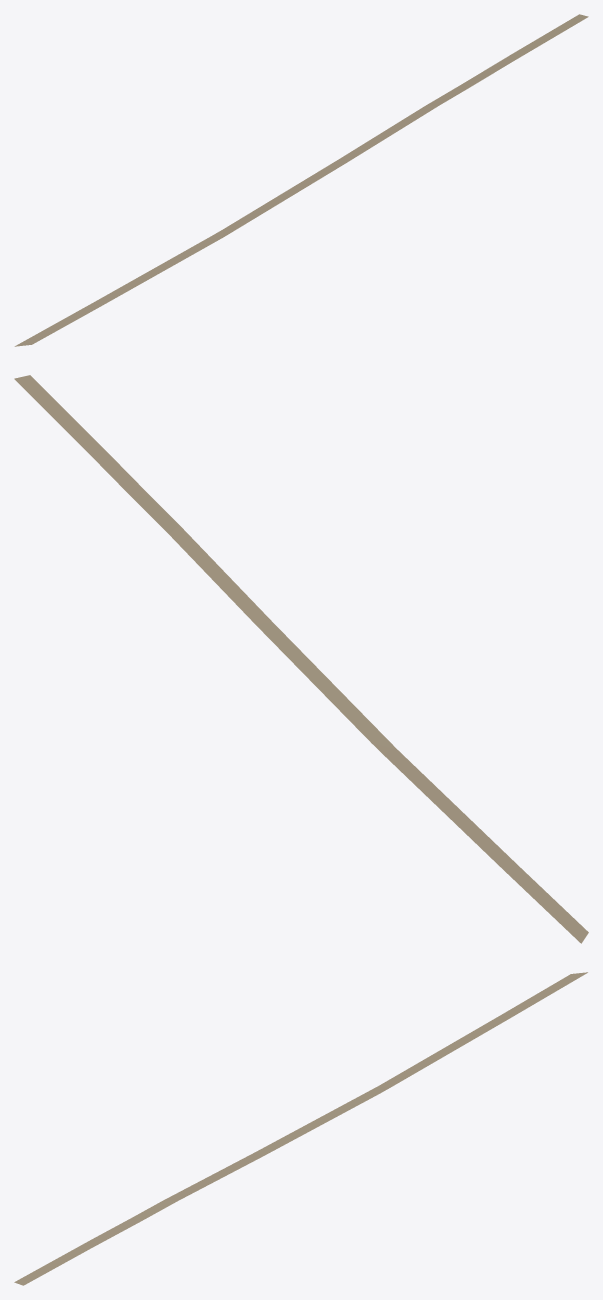
File: farm_25_12_track.glb
The picture shows the model from 3 angles, top to bottom: view 1: azimuth 90°, elevation 25°; view 2: azimuth 150°, elevation 25°; view 3: azimuth 270°, elevation 25°; orthographic projection. The views are drawn at different scales.
Parts seen in each view (by area): view 1: geometry_0; view 2: geometry_0; view 3: geometry_0.
Part boxes in pixels (x1,y1,x2,y2): geometry_0: [14, 14, 588, 346]; geometry_0: [14, 375, 588, 943]; geometry_0: [14, 972, 587, 1285].
Bounding box in the file's own units: 212 × 3.67 × 159.
